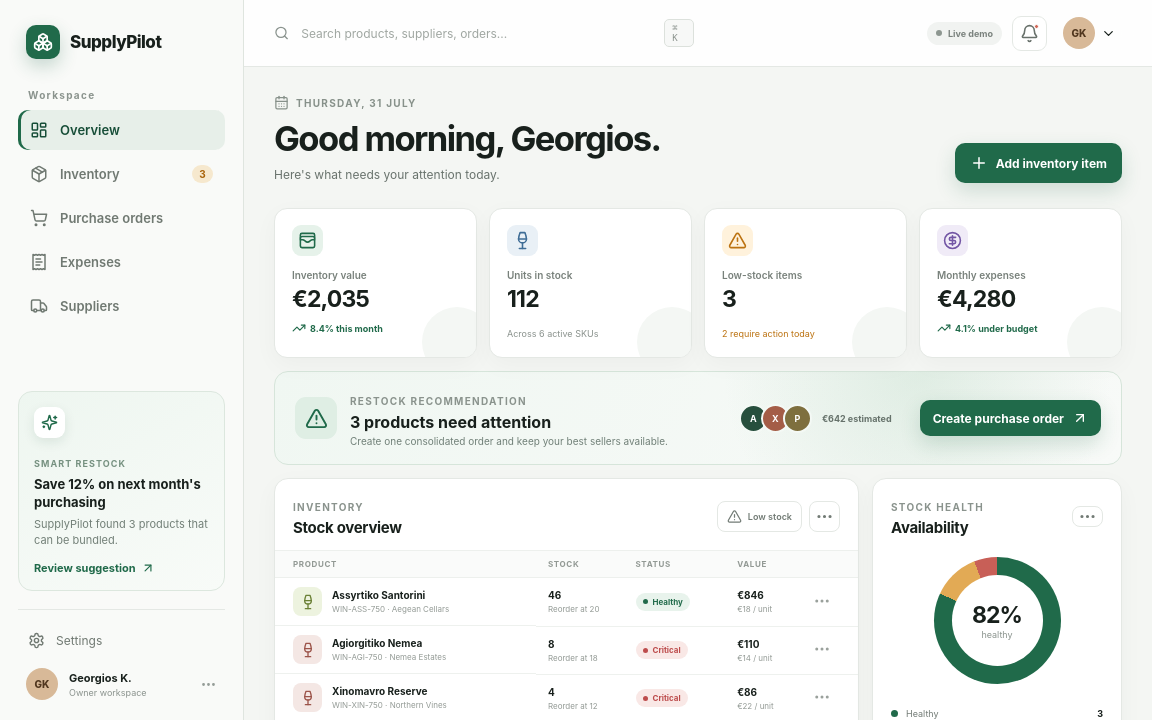
Test: SupplyPilot dashboard › adds a product through the inventory dialog
Click the button "Add inventory item" at (1038, 163), box left=955, top=143, right=1122, bottom=183
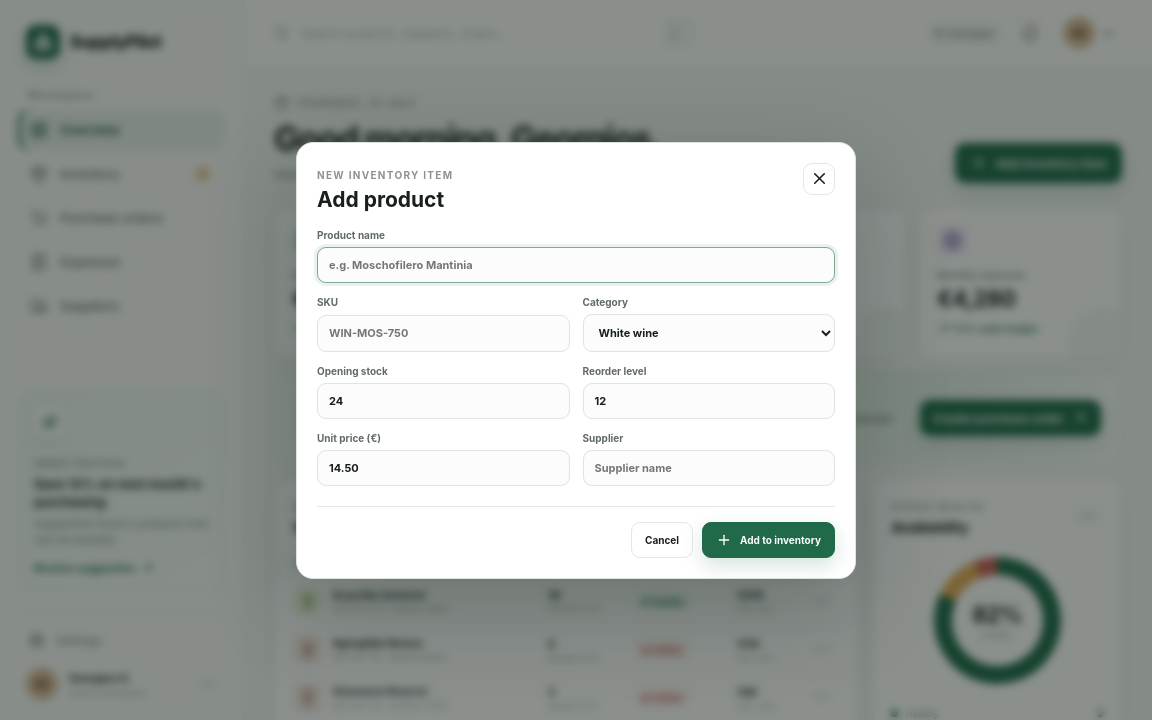
Type "Mavrodaphne Reserve" into the field labelled "Product name" at (576, 264), box left=317, top=246, right=835, bottom=282
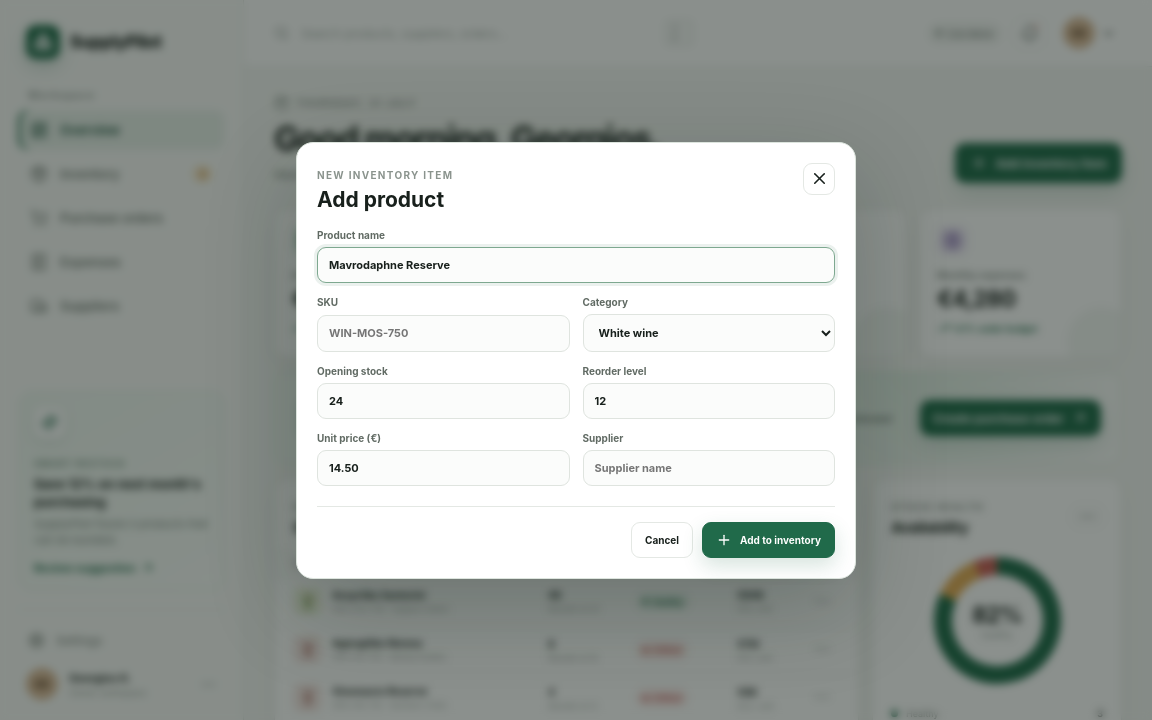
Type "WIN-MAV-750" into the field labelled "SKU" at (443, 333), box left=317, top=314, right=570, bottom=352
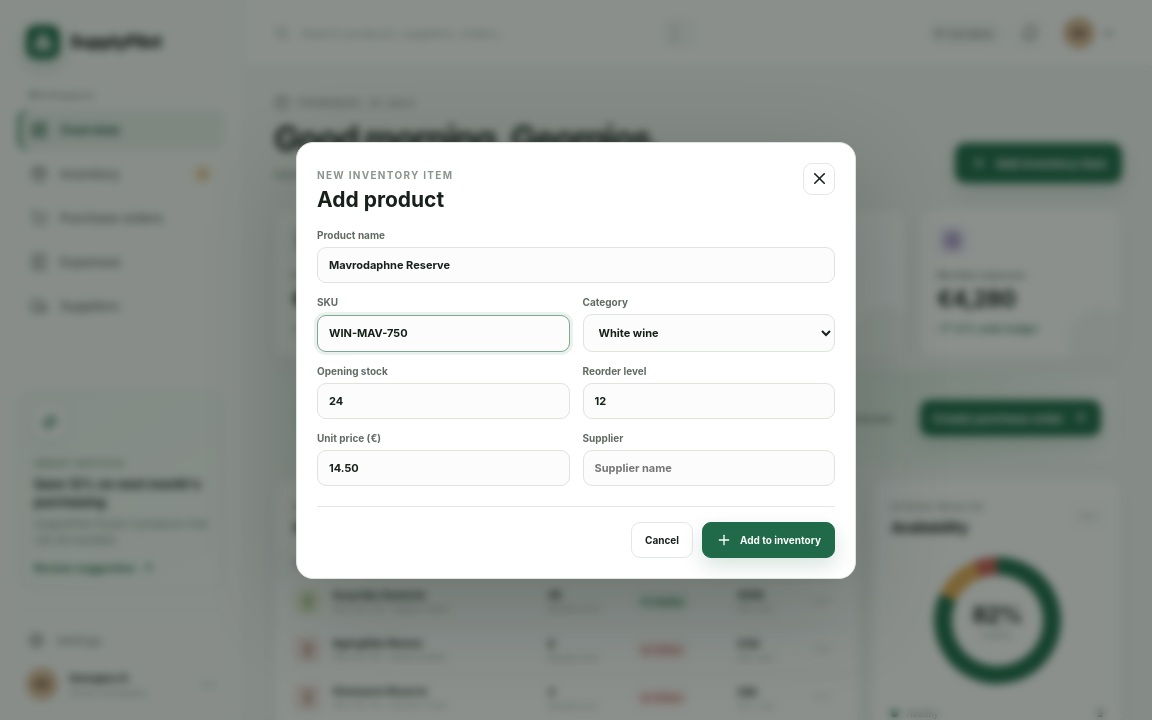
Type "Patras Cellars" into the field labelled "Supplier" at (709, 468), box left=582, top=450, right=835, bottom=486
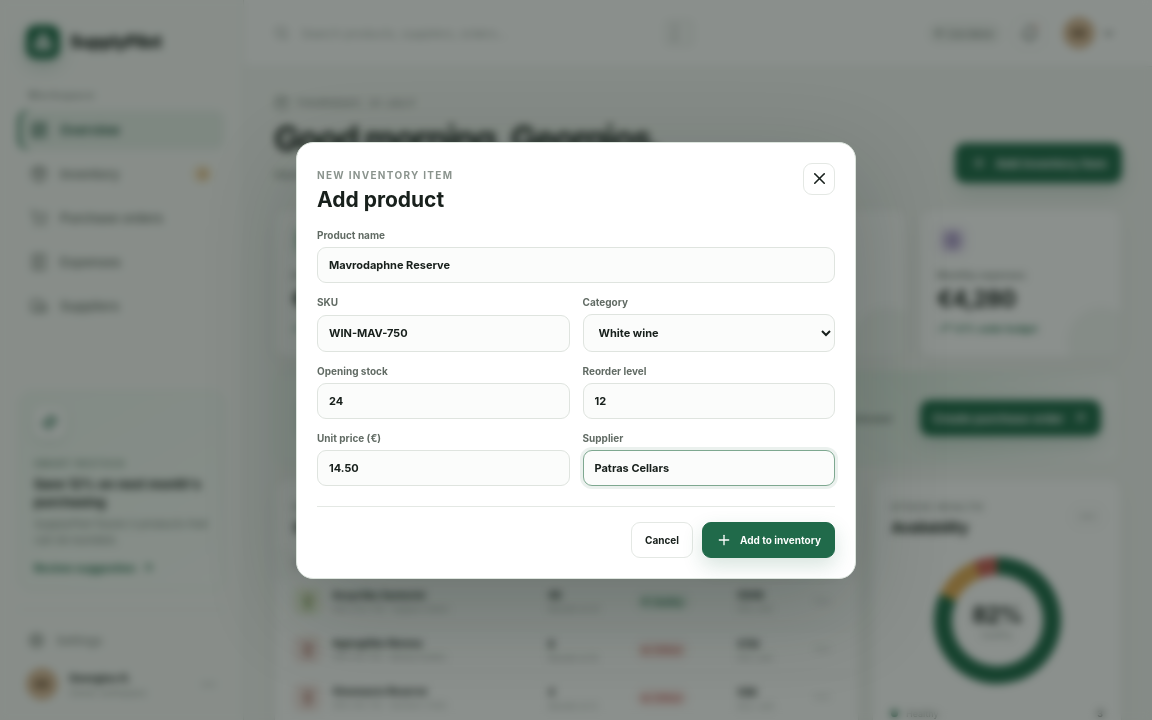
Click the button "Add to inventory" at (768, 540), box left=702, top=522, right=835, bottom=558
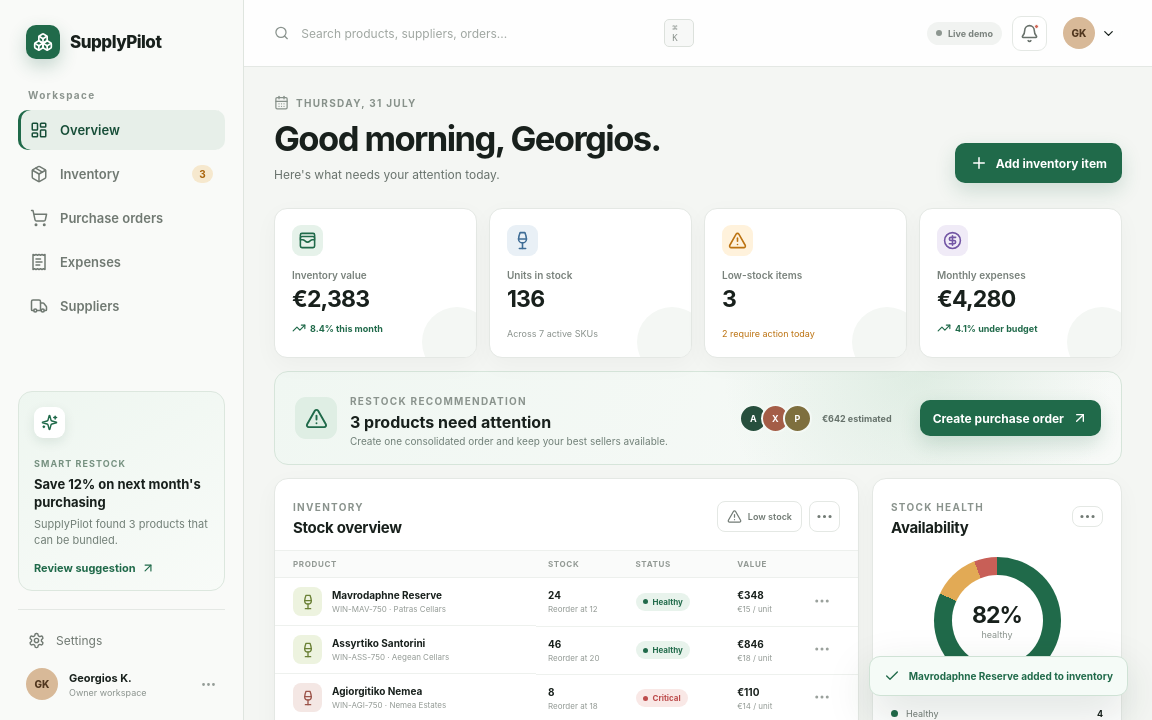
expect the text "Mavrodaphne Reserve added to inventory" is shown: met, box left=909, top=670, right=1113, bottom=682
expect the text "Mavrodaphne Reserve" is shown: met, box left=332, top=589, right=446, bottom=601
